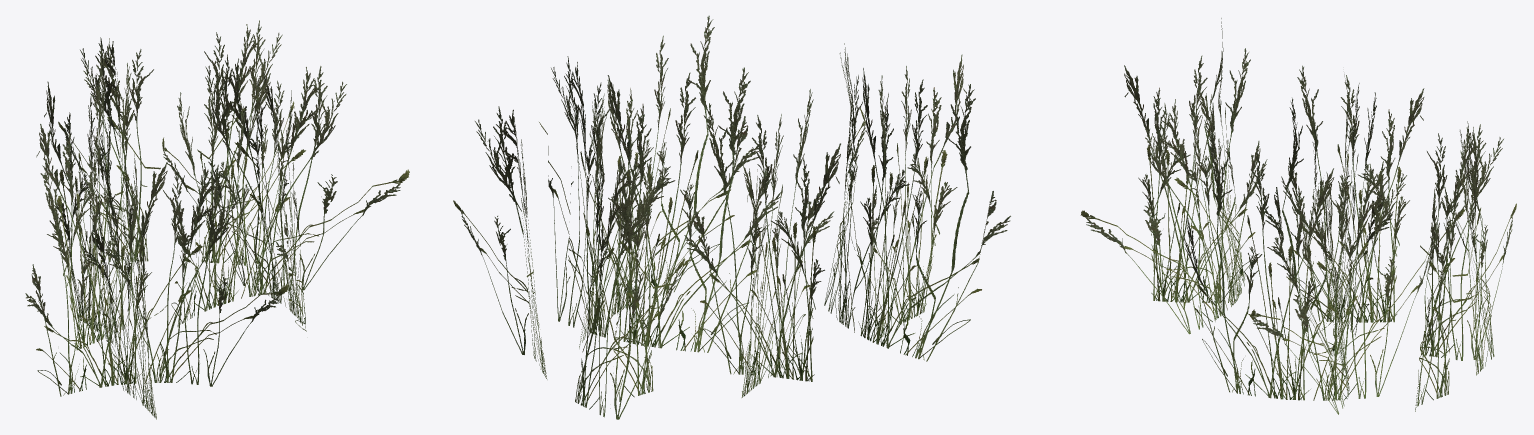
File: reeds.glb
3 renders of one model, left to right at view 1: azimuth 30°, elevation 25°; view 2: azimuth 150°, elevation 25°; view 3: azimuth 270°, elevation 25°, orthographic. The views are drawn at different scales.
Visible parts, largest first — view 1: Grass_Reeds_LOD0_Grass_Reeds_0; view 2: Grass_Reeds_LOD0_Grass_Reeds_0; view 3: Grass_Reeds_LOD0_Grass_Reeds_0.
Boxes of the visible parts, left/top/right/bottom form: Grass_Reeds_LOD0_Grass_Reeds_0: left=25, top=20, right=409, bottom=419; Grass_Reeds_LOD0_Grass_Reeds_0: left=453, top=15, right=1010, bottom=419; Grass_Reeds_LOD0_Grass_Reeds_0: left=1080, top=18, right=1516, bottom=414.
Bounding box in the file's own units: 3.68 × 2.09 × 3.43.
Materials: 1 (1 with a texture image).
